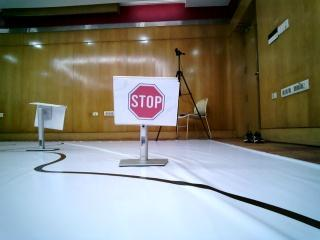stop: (123, 82, 172, 117)
